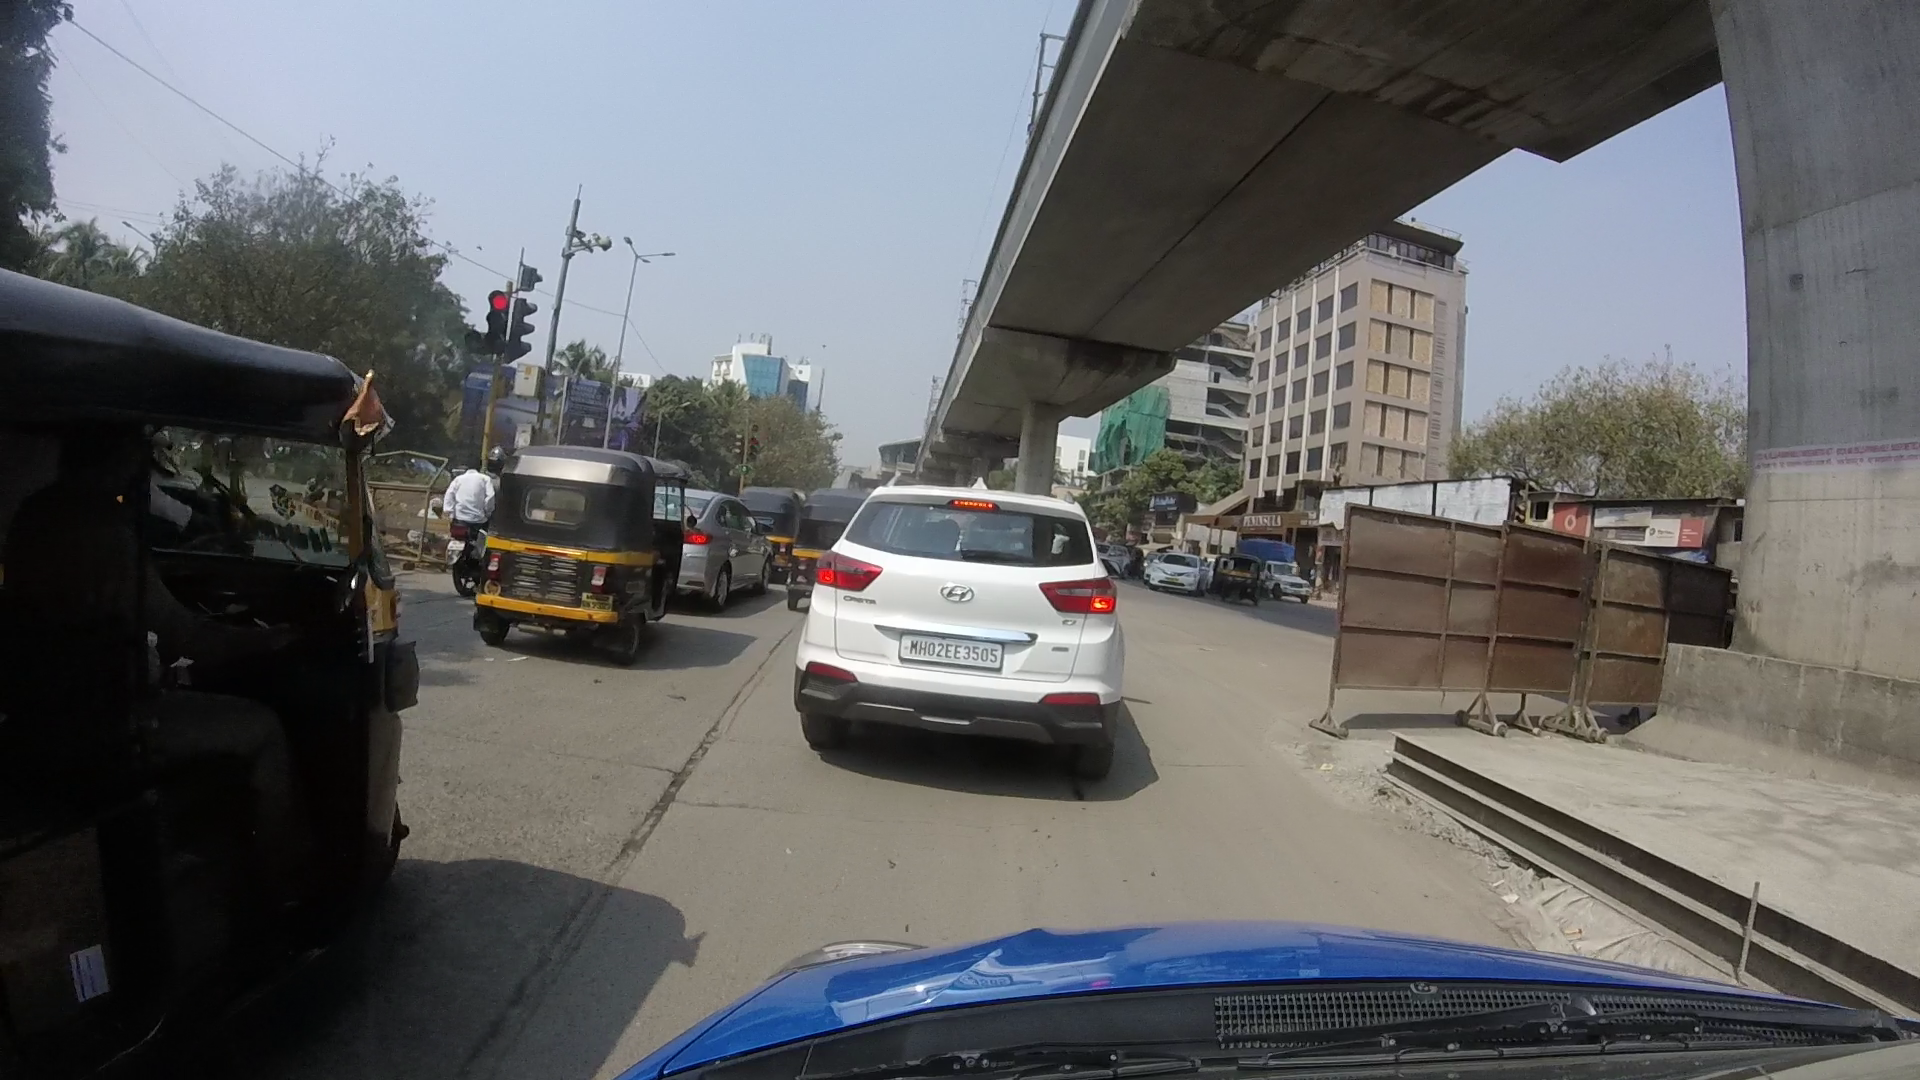bike/scooter: (431, 429, 498, 600)
car: (795, 451, 1135, 771), (655, 475, 773, 596)
rickshaw: (11, 257, 442, 1042), (473, 431, 680, 687), (789, 481, 862, 593)
